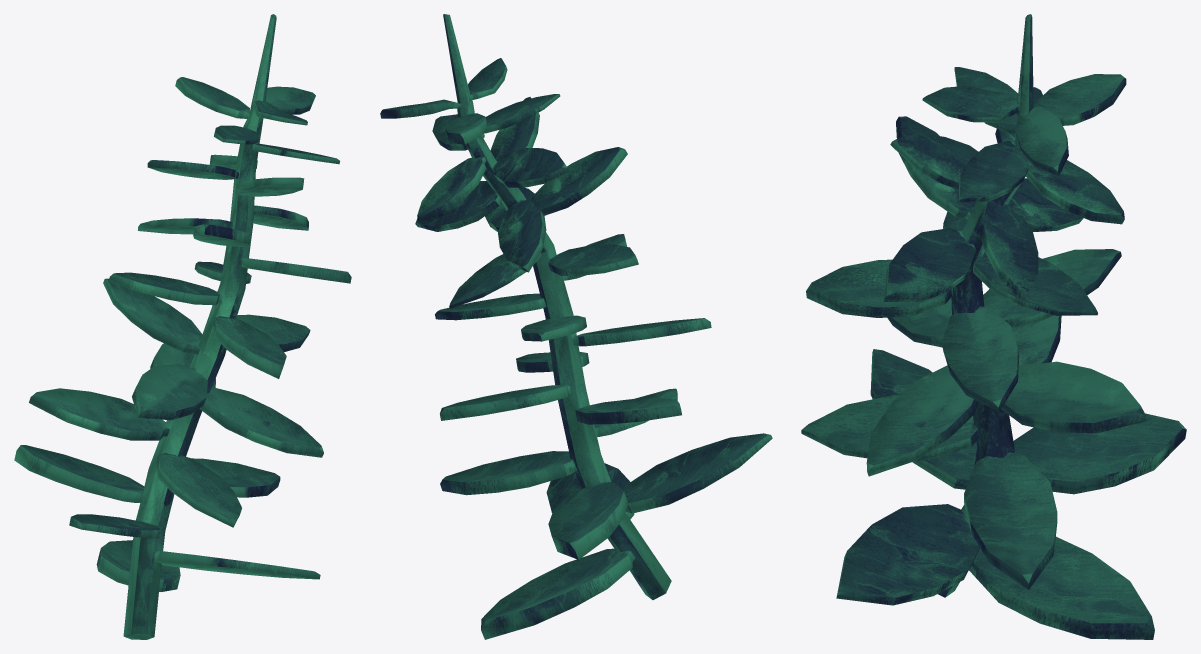
Rendered from greenPlant.glb.
3 views of the same model, side by side, from view 1: azimuth 30°, elevation 25°; view 2: azimuth 150°, elevation 25°; view 3: azimuth 270°, elevation 25° (orthographic). The views are drawn at different scales.
Parts seen in each view (by area): view 1: LeafyPlant; view 2: LeafyPlant; view 3: LeafyPlant.
Part boxes in pixels (bbox=[...]): LeafyPlant: bbox=[14, 14, 351, 639]; LeafyPlant: bbox=[380, 14, 772, 639]; LeafyPlant: bbox=[801, 14, 1186, 639].
Size of the model in its own units: 7.67 by 13.2 by 6.8.
Materials: 1 (1 with a texture image).
